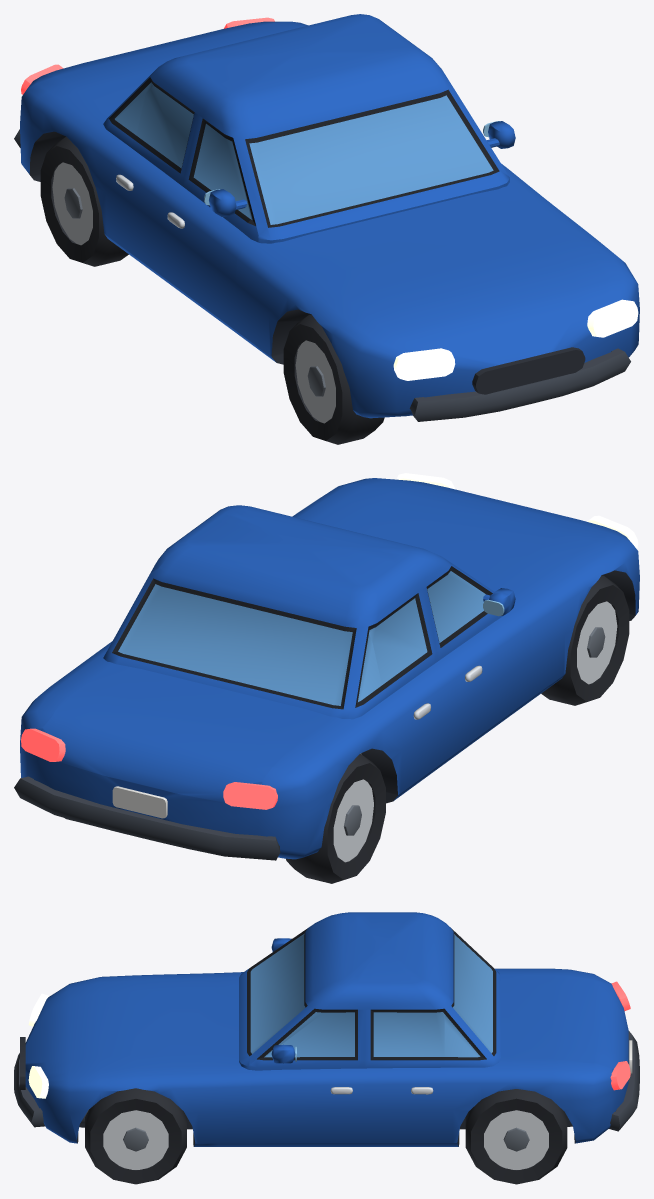
The model's file is sedan_azul.glb.
3 views of the same model, one above another, from view 1: azimuth 30°, elevation 25°; view 2: azimuth 150°, elevation 25°; view 3: azimuth 270°, elevation 25° (orthographic). The views are drawn at different scales.
Visible parts, largest first — view 1: sedan_azul, porta_dianteira_esq, porta_traseira_esq, roda_dianteira_esq, roda_traseira_esq, porta_malas; view 2: sedan_azul, porta_malas, porta_dianteira_esq, porta_traseira_esq, roda_traseira_esq, roda_dianteira_esq; view 3: sedan_azul, porta_dianteira_dir, porta_traseira_dir, porta_malas, roda_traseira_dir, roda_dianteira_dir.
Part boxes in pixels (bbox=[...]): sedan_azul: bbox=[14, 14, 639, 421]; porta_dianteira_esq: bbox=[162, 115, 258, 330]; porta_traseira_esq: bbox=[111, 77, 198, 277]; roda_dianteira_esq: bbox=[283, 314, 384, 444]; roda_traseira_esq: bbox=[40, 136, 128, 266]; porta_malas: bbox=[44, 22, 287, 110]; sedan_azul: bbox=[14, 473, 639, 860]; porta_malas: bbox=[42, 668, 326, 802]; porta_dianteira_esq: bbox=[422, 566, 531, 751]; porta_traseira_esq: bbox=[368, 590, 458, 789]; roda_traseira_esq: bbox=[286, 754, 385, 883]; roda_dianteira_esq: bbox=[541, 575, 629, 705]; sedan_azul: bbox=[14, 912, 639, 1146]; porta_dianteira_dir: bbox=[250, 1008, 364, 1143]; porta_traseira_dir: bbox=[364, 1008, 444, 1143]; porta_malas: bbox=[509, 975, 628, 1070]; roda_traseira_dir: bbox=[465, 1089, 567, 1184]; roda_dianteira_dir: bbox=[85, 1088, 186, 1184].
Size of the model in its own units: 1.94 by 1.47 by 4.44.
4 materials, 1 textured.
